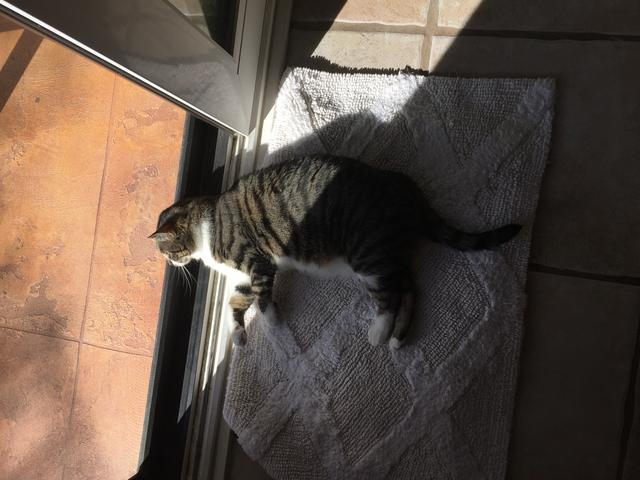playdoh: (152, 154, 526, 351)
